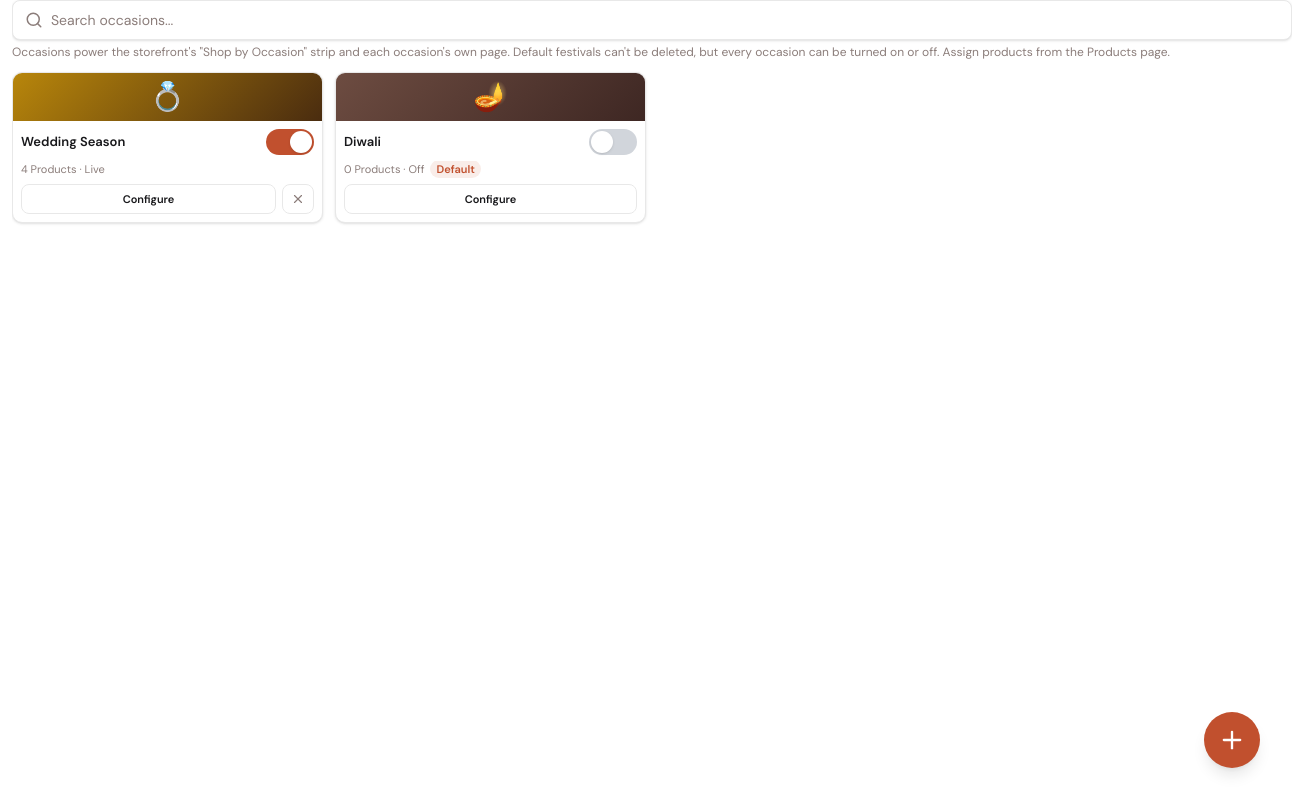
Test: OccasionsClient › shows the empty state when no occasion matches the search
Type "holi" into the field with placeholder "Search occasions..." at (665, 20), box [51, 10, 1279, 30]
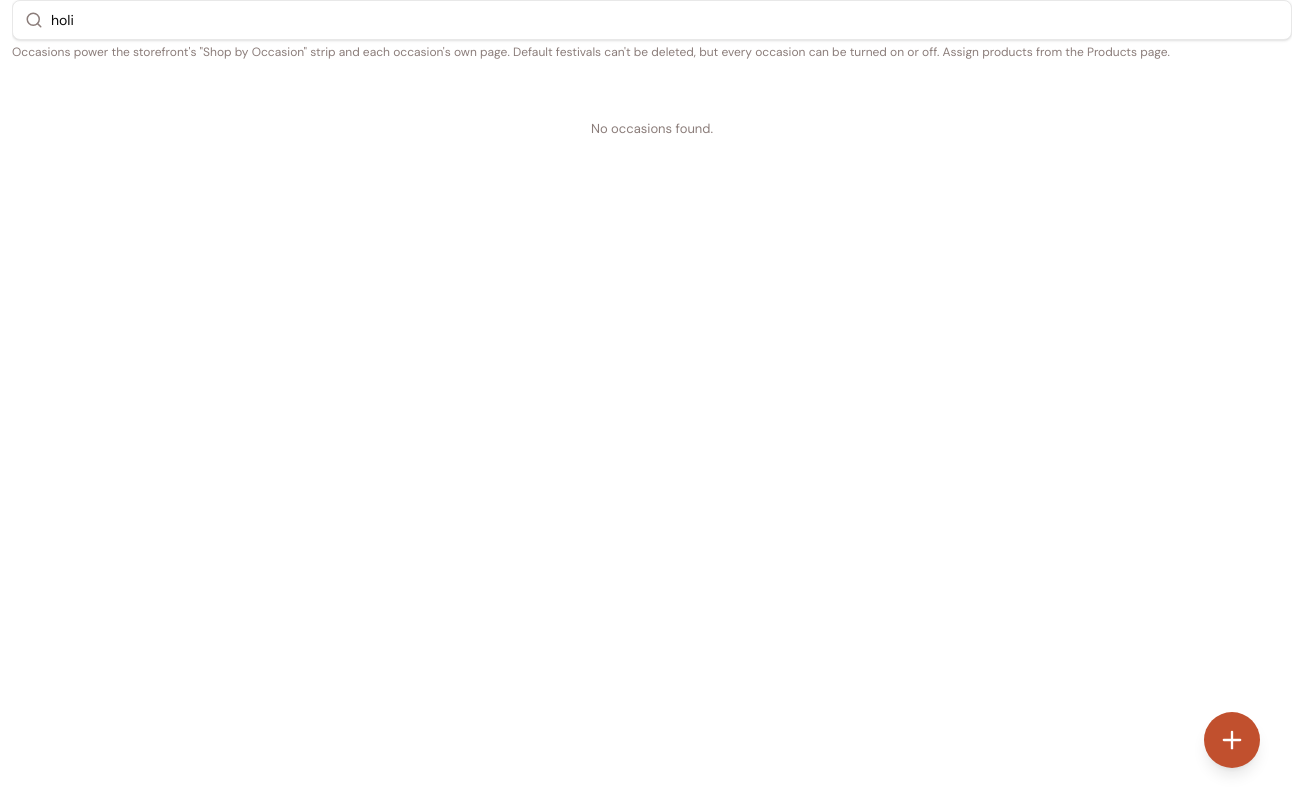
Check: the text "No occasions found." is shown, box [591, 120, 713, 137]
